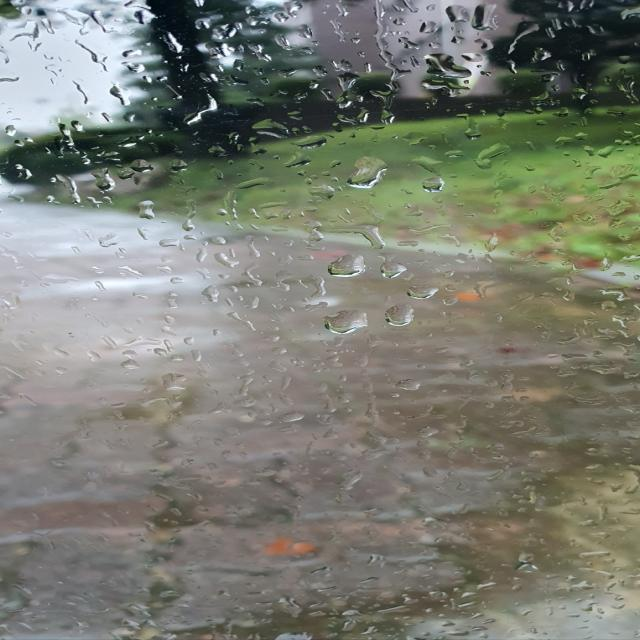raindrop: (344, 155, 402, 192), (176, 94, 236, 128), (416, 53, 480, 81), (374, 302, 426, 336), (317, 306, 375, 336), (412, 78, 487, 100), (466, 140, 514, 174), (331, 223, 388, 250), (504, 18, 546, 54), (324, 252, 372, 282), (250, 115, 300, 143), (468, 0, 507, 35), (84, 164, 124, 196), (72, 40, 114, 70), (148, 370, 196, 396), (436, 0, 478, 28), (402, 280, 451, 304), (608, 70, 640, 104), (287, 132, 341, 152), (448, 110, 484, 140), (104, 80, 142, 108), (130, 196, 167, 223), (332, 68, 368, 95), (334, 108, 382, 128), (405, 152, 445, 176), (157, 30, 190, 57), (591, 286, 640, 304), (377, 258, 412, 283), (589, 358, 630, 379), (419, 172, 458, 194), (200, 283, 233, 309), (268, 30, 302, 55), (126, 158, 166, 178), (284, 151, 322, 172), (164, 154, 198, 177), (397, 128, 438, 147), (200, 38, 238, 58), (524, 47, 566, 65), (208, 250, 242, 272), (476, 231, 507, 255), (122, 333, 171, 348), (93, 229, 129, 249), (304, 180, 339, 200), (392, 376, 427, 396), (537, 270, 578, 287), (235, 173, 278, 189), (120, 58, 158, 76), (207, 21, 241, 41), (585, 326, 620, 345), (417, 17, 447, 39), (520, 88, 560, 104), (397, 34, 432, 52), (458, 50, 492, 66), (280, 409, 314, 425), (196, 70, 228, 86), (330, 58, 360, 74), (274, 67, 306, 82), (474, 36, 502, 52), (415, 424, 442, 440), (154, 236, 182, 250), (333, 95, 358, 110), (588, 21, 610, 38), (614, 51, 640, 64)
